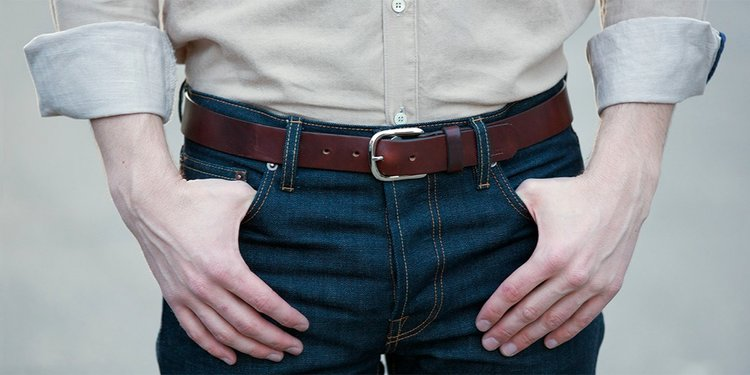C_jeans: (163, 85, 608, 375)
F_belt: (164, 95, 583, 184)
